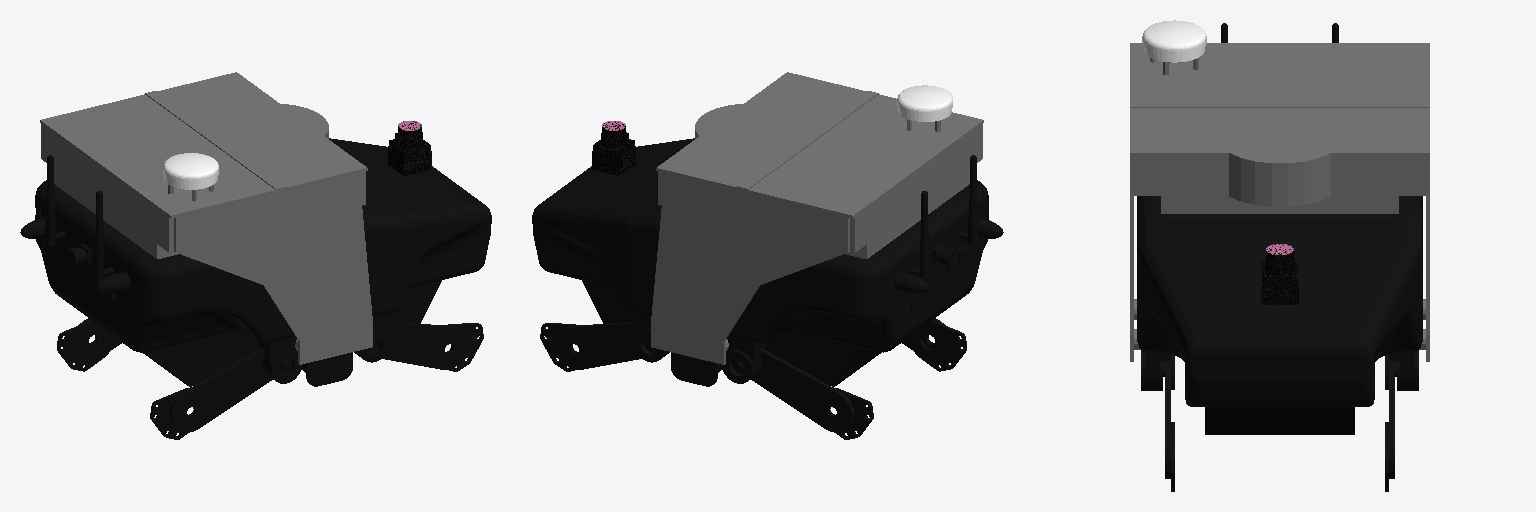
robot.urdf — summit_xl:
<?xml version="1.0" ?>
<!-- =================================================================================== -->
<!-- |    This document was autogenerated by xacro from summit_xl_170420A.urdf.xacro   | -->
<!-- |    EDITING THIS FILE BY HAND IS NOT RECOMMENDED                                 | -->
<!-- =================================================================================== -->
<robot name="summit_xl" xmlns:xacro="http://www.ros.org/wiki/xacro">
  <!-- ***************** -->
  <!-- Imported elements -->
  <!-- ***************** -->
  <!-- First we import all posible elements defined in the urdf.xacro files. All these elements are defined as macro:xacros -->
  <gazebo reference="base_footprint">
    <material>Gazebo/Green</material>
  </gazebo>
  <!-- in kg-->
  <!-- This file unifies all sensors that can be used on simulation, defined as xacro:macros -->
  <!-- ***************** -->
  <!-- Global parameters -->
  <!-- ***************** -->
  <!-- *************** -->
  <!-- Robots Elements -->
  <!-- *************** -->
  <!-- Here we create the robot elements using the xacro:macros imported at the beggining of this file -->
  <link name="summit_xl_base_footprint">
    <visual>
      <origin rpy="0 0 0" xyz="0 0 0"/>
      <geometry>
        <box size="0.001 0.001 0.001"/>
      </geometry>
    </visual>
  </link>
  <joint name="summit_xl_base_footprint_joint" type="fixed">
    <origin rpy="0 0 0" xyz="0 0 0.125"/>
    <!-- ${wheel_radius} property must be defined inside wheel description -->
    <parent link="summit_xl_base_footprint"/>
    <child link="summit_xl_base_link"/>
  </joint>
  <!-- BASE_LINK -->
  <link name="summit_xl_base_link">
    <inertial>
      <mass value="25.0"/>
      <origin xyz="0 0 0"/>
      <inertia ixx="1.391" ixy="0.004" ixz="0.0" iyy="6.853" iyz="0.0" izz="6.125"/>
    </inertial>
    <visual>
      <origin rpy="0 0 0" xyz="0 0 0"/>
      <geometry>
        <mesh filename="package://summit_xl_description/meshes/bases/summit_xl_hl_chassis.dae"/>
      </geometry>
      <material name="darkgrey">
        <color rgba="0.1 0.1 0.1 1"/>
      </material>
    </visual>
    <collision>
      <origin rpy="0 0 0 " xyz="0 0 0"/>
      <geometry>
        <mesh filename="package://summit_xl_description/meshes/bases/summit_xl_hl_chassis.dae"/>
      </geometry>
    </collision>
  </link>
  <gazebo>
    <plugin filename="libgazebo_ros_control.so" name="ros_control">
      <!--<robotNamespace>/summit_xl</robotNamespace>-->
      <robotParam>robot_description</robotParam>
      <controlPeriod>0.001</controlPeriod>
      <robotSimType>gazebo_ros_control/DefaultRobotHWSim</robotSimType>
    </plugin>
  </gazebo>
  <!-- Gazebo skid steering pluggins -->
  <!-- Simulation now uses a set of ros_control controllers and a node called summit_xl_robot_control -->
  <!--xacro:ros_force_based_move broadcastOdomTF="0"/-->
  <!--xacro:skid_steering broadcastOdomTF="0"/>-->
  <!-- Gazebo omni steering plugin -->
  <!--xacro:omni_steering/-->
  <!-- WHEELS -->
  <!--WHEEL TIRE -->
  <joint name="summit_xl_front_right_wheel_joint" type="continuous">
    <parent link="summit_xl_base_link"/>
    <child link="summit_xl_front_right_wheel"/>
    <origin rpy="0 0 0" xyz="0.229 -0.234 0.0"/>
    <axis rpy="0 0 0" xyz="0 1 0"/>
    <limit effort="100" velocity="100"/>
    <joint_properties damping="0.0" friction="0.0"/>
  </joint>
  <link name="summit_xl_front_right_wheel">
    <visual>
      <origin rpy="0 0 0" xyz="0 0 0"/>
      <geometry>
        <mesh filename="package://summit_xl_description/meshes/wheels/rubber_wheel_right.dae"/>
      </geometry>
    </visual>
    <collision>
      <origin rpy="1.57079632679 0 0" xyz="0 0 0"/>
      <geometry>
        <cylinder length="0.14" radius="0.125"/>
      </geometry>
    </collision>
    <inertial>
      <mass value="6.5"/>
      <origin xyz="0 0 0"/>
      <inertia ixx="0.0360072916667" ixy="0" ixz="0" iyy="0.05078125" iyz="0" izz="0.0360072916667"/>
    </inertial>
  </link>
  <!-- Transmission is important to link the joints and the controller (see summit_xl_control/config/summit_xl_control.yaml)-->
  <transmission name="summit_xl_front_right_wheel_joint_trans">
    <type>transmission_interface/SimpleTransmission</type>
    <joint name="summit_xl_front_right_wheel_joint">
      <hardwareInterface>hardware_interface/VelocityJointInterface</hardwareInterface>
    </joint>
    <actuator name="summit_xl_front_right_wheel_joint_motor">
      <mechanicalReduction>1</mechanicalReduction>
      <motorTorqueConstant>20</motorTorqueConstant>
    </actuator>
  </transmission>
  <gazebo reference="summit_xl_front_right_wheel">
    <mu1 value="1.0"/>
    <mu2 value="1.0"/>
    <kp value="10000000.0"/>
    <kd value="1.0"/>
    <fdir1 value="1 0 0"/>
    <turnGravityOff>false</turnGravityOff>
  </gazebo>
  <!--WHEEL TIRE -->
  <joint name="summit_xl_front_left_wheel_joint" type="continuous">
    <parent link="summit_xl_base_link"/>
    <child link="summit_xl_front_left_wheel"/>
    <origin rpy="0 0 0" xyz="0.229 0.234 0.0"/>
    <axis rpy="0 0 0" xyz="0 1 0"/>
    <limit effort="100" velocity="100"/>
    <joint_properties damping="0.0" friction="0.0"/>
  </joint>
  <link name="summit_xl_front_left_wheel">
    <visual>
      <origin rpy="0 0 0" xyz="0 0 0"/>
      <geometry>
        <mesh filename="package://summit_xl_description/meshes/wheels/rubber_wheel_left.dae"/>
      </geometry>
    </visual>
    <collision>
      <origin rpy="1.57079632679 0 0" xyz="0 0 0"/>
      <geometry>
        <cylinder length="0.14" radius="0.125"/>
      </geometry>
    </collision>
    <inertial>
      <mass value="6.5"/>
      <origin xyz="0 0 0"/>
      <inertia ixx="0.0360072916667" ixy="0" ixz="0" iyy="0.05078125" iyz="0" izz="0.0360072916667"/>
    </inertial>
  </link>
  <!-- Transmission is important to link the joints and the controller (see summit_xl_control/config/summit_xl_control.yaml)-->
  <transmission name="summit_xl_front_left_wheel_joint_trans">
    <type>transmission_interface/SimpleTransmission</type>
    <joint name="summit_xl_front_left_wheel_joint">
      <hardwareInterface>hardware_interface/VelocityJointInterface</hardwareInterface>
    </joint>
    <actuator name="summit_xl_front_left_wheel_joint_motor">
      <mechanicalReduction>1</mechanicalReduction>
      <motorTorqueConstant>20</motorTorqueConstant>
    </actuator>
  </transmission>
  <gazebo reference="summit_xl_front_left_wheel">
    <mu1 value="1.0"/>
    <mu2 value="1.0"/>
    <kp value="10000000.0"/>
    <kd value="1.0"/>
    <fdir1 value="1 0 0"/>
    <turnGravityOff>false</turnGravityOff>
  </gazebo>
  <!--WHEEL TIRE -->
  <joint name="summit_xl_back_left_wheel_joint" type="continuous">
    <parent link="summit_xl_base_link"/>
    <child link="summit_xl_back_left_wheel"/>
    <origin rpy="0 0 0" xyz="-0.229 0.234 0.0"/>
    <axis rpy="0 0 0" xyz="0 1 0"/>
    <limit effort="100" velocity="100"/>
    <joint_properties damping="0.0" friction="0.0"/>
  </joint>
  <link name="summit_xl_back_left_wheel">
    <visual>
      <origin rpy="0 0 0" xyz="0 0 0"/>
      <geometry>
        <mesh filename="package://summit_xl_description/meshes/wheels/rubber_wheel_left.dae"/>
      </geometry>
    </visual>
    <collision>
      <origin rpy="1.57079632679 0 0" xyz="0 0 0"/>
      <geometry>
        <cylinder length="0.14" radius="0.125"/>
      </geometry>
    </collision>
    <inertial>
      <mass value="6.5"/>
      <origin xyz="0 0 0"/>
      <inertia ixx="0.0360072916667" ixy="0" ixz="0" iyy="0.05078125" iyz="0" izz="0.0360072916667"/>
    </inertial>
  </link>
  <!-- Transmission is important to link the joints and the controller (see summit_xl_control/config/summit_xl_control.yaml)-->
  <transmission name="summit_xl_back_left_wheel_joint_trans">
    <type>transmission_interface/SimpleTransmission</type>
    <joint name="summit_xl_back_left_wheel_joint">
      <hardwareInterface>hardware_interface/VelocityJointInterface</hardwareInterface>
    </joint>
    <actuator name="summit_xl_back_left_wheel_joint_motor">
      <mechanicalReduction>1</mechanicalReduction>
      <motorTorqueConstant>20</motorTorqueConstant>
    </actuator>
  </transmission>
  <gazebo reference="summit_xl_back_left_wheel">
    <mu1 value="1.0"/>
    <mu2 value="1.0"/>
    <kp value="10000000.0"/>
    <kd value="1.0"/>
    <fdir1 value="1 0 0"/>
    <turnGravityOff>false</turnGravityOff>
  </gazebo>
  <!--WHEEL TIRE -->
  <joint name="summit_xl_back_right_wheel_joint" type="continuous">
    <parent link="summit_xl_base_link"/>
    <child link="summit_xl_back_right_wheel"/>
    <origin rpy="0 0 0" xyz="-0.229 -0.234 0.0"/>
    <axis rpy="0 0 0" xyz="0 1 0"/>
    <limit effort="100" velocity="100"/>
    <joint_properties damping="0.0" friction="0.0"/>
  </joint>
  <link name="summit_xl_back_right_wheel">
    <visual>
      <origin rpy="0 0 0" xyz="0 0 0"/>
      <geometry>
        <mesh filename="package://summit_xl_description/meshes/wheels/rubber_wheel_right.dae"/>
      </geometry>
    </visual>
    <collision>
      <origin rpy="1.57079632679 0 0" xyz="0 0 0"/>
      <geometry>
        <cylinder length="0.14" radius="0.125"/>
      </geometry>
    </collision>
    <inertial>
      <mass value="6.5"/>
      <origin xyz="0 0 0"/>
      <inertia ixx="0.0360072916667" ixy="0" ixz="0" iyy="0.05078125" iyz="0" izz="0.0360072916667"/>
    </inertial>
  </link>
  <!-- Transmission is important to link the joints and the controller (see summit_xl_control/config/summit_xl_control.yaml)-->
  <transmission name="summit_xl_back_right_wheel_joint_trans">
    <type>transmission_interface/SimpleTransmission</type>
    <joint name="summit_xl_back_right_wheel_joint">
      <hardwareInterface>hardware_interface/VelocityJointInterface</hardwareInterface>
    </joint>
    <actuator name="summit_xl_back_right_wheel_joint_motor">
      <mechanicalReduction>1</mechanicalReduction>
      <motorTorqueConstant>20</motorTorqueConstant>
    </actuator>
  </transmission>
  <gazebo reference="summit_xl_back_right_wheel">
    <mu1 value="1.0"/>
    <mu2 value="1.0"/>
    <kp value="10000000.0"/>
    <kd value="1.0"/>
    <fdir1 value="1 0 0"/>
    <turnGravityOff>false</turnGravityOff>
  </gazebo>
  <!-- SENSORS -->
  <!-- Hokuyo laser sensors can be parametized with min_angle and max_angle e.g: -->
  <!--xacro:sensor_hokuyo_utm30lx prefix="$(arg prefix)hokuyo_base" parent="$(arg prefix)base_link" min_angle="2.35" max_angle="-2.35"-->
  <!--xacro:sensor_hokuyo_utm30lx prefix="$(arg prefix)hokuyo_base" parent="$(arg prefix)base_link">
		<origin xyz="0.0 0.0 0.33" rpy="0 0 0"/>
	</xacro:sensor_hokuyo_utm30lx-->
  <joint name="summit_xl_laser_base_joint" type="fixed">
    <!-- FRONT MOUNT  -->
    <!--origin xyz="0.29 0 0.1" -->
    <!-- TOP MOUNT -->
    <!-- origin xyz="0.0 0.0 0.325"-->
    <origin rpy="0 0 0" xyz="0.24854 0 0.29190"/>
    <parent link="summit_xl_base_link"/>
    <child link="summit_xl_laser_base_link"/>
  </joint>
  <link name="summit_xl_laser_base_link">
    <visual>
      <origin rpy="0 0 0" xyz="0 0 -0.05"/>
      <geometry>
        <mesh filename="package://robotnik_sensors/meshes/hokuyo_urg_04lx.dae"/>
      </geometry>
    </visual>
    <inertial>
      <mass value="1e-5"/>
      <origin rpy="0 0 0" xyz="0 0 0"/>
      <inertia ixx="1e-6" ixy="0" ixz="0" iyy="1e-6" iyz="0" izz="1e-6"/>
    </inertial>
  </link>
  <link name="summit_xl_laser_link">
	</link>
  <joint name="summit_xl_laser_joint" type="fixed">
    <parent link="summit_xl_laser_base_link"/>
    <child link="summit_xl_laser_link"/>
    <origin rpy="0 0 0" xyz="0.00 0 0.05"/>
  </joint>
  <gazebo reference="summit_xl_laser_link">
    <sensor name="summit_xl_laser_sensor" type="ray">
      <pose>0 0 0 0 0 0</pose>
      <visualize>false</visualize>
      <update_rate>10</update_rate>
      <ray>
        <scan>
          <horizontal>
            <samples>640</samples>
            <resolution>1</resolution>
            <min_angle>-2.0943</min_angle>
            <max_angle>2.0943</max_angle>
          </horizontal>
        </scan>
        <range>
          <min>0.02</min>
          <max>4.0</max>
          <resolution>0.00628318531</resolution>
        </range>
        <noise>
          <type>gaussian</type>
          <mean>0.0</mean>
          <stddev>0.01</stddev>
        </noise>
      </ray>
      <plugin filename="libgazebo_ros_laser.so" name="summit_xl_laser_controller">
        <topicName>scan</topicName>
        <frameName>summit_xl_laser_link</frameName>
        <ignoreTfPrefix>1</ignoreTfPrefix>
      </plugin>
    </sensor>
  </gazebo>
  <joint name="summit_xl_structure_chasis_our_joint" type="fixed">
    <axis xyz="0 1 0"/>
    <origin rpy="0 0 0" xyz="0.0 0.0 0.0"/>
    <parent link="summit_xl_base_link"/>
    <child link="summit_xl_structure_chasis_our_link"/>
  </joint>
  <link name="summit_xl_structure_chasis_our_link">
    <inertial>
      <mass value="0.001"/>
      <origin rpy="0 0 0" xyz="0 0 0"/>
      <inertia ixx="0.0001" ixy="0" ixz="0" iyy="0.000001" iyz="0" izz="0.0001"/>
    </inertial>
    <visual>
      <origin rpy="0 0 0" xyz="0 0 0"/>
      <material name="alu_color">
        <color rgba="0.5 0.5 0.5 1"/>
      </material>
      <geometry>
        <mesh filename="package://summit_xl_description/meshes/structures/chasis_sup_our.stl"/>
      </geometry>
    </visual>
    <collision>
      <origin rpy="0 0 0" xyz="0 0 0"/>
      <geometry>
        <mesh filename="package://summit_xl_description/meshes/structures/chasis_sup_our.stl"/>
      </geometry>
    </collision>
  </link>
  <gazebo reference="summit_xl_structure_chasis_our_link">
    <material>Gazebo/White</material>
    <gravity>true</gravity>
  </gazebo>
  <!--
  <xacro:sensor_hokuyo_ust10lx prefix="$(arg prefix)hokuyo_base" parent="$(arg prefix)base_link">
		<origin xyz="0.0 0.0 0.33" rpy="0 0 0"/>
	</xacro:sensor_hokuyo_ust10lx>
-->
  <!--
	<xacro:sensor_axis prefix="$(arg prefix)camera" parent="$(arg prefix)base_link">
		<origin xyz="0.19 0 0.17" rpy="0 ${-75*PI/180} 0"/>
	</xacro:sensor_axis>
-->
  <joint name="summit_xl_imu_joint" type="fixed">
    <axis xyz="1 0 0"/>
    <!--origin xyz="0 0 0.2825"/-->
    <origin rpy="0 0 0" xyz="-0.18 0.0 0.170"/>
    <parent link="summit_xl_base_link"/>
    <child link="summit_xl_imu_link"/>
  </joint>
  <link name="summit_xl_imu_link">
    <inertial>
      <mass value="0.001"/>
      <origin rpy="0 0 0" xyz="0 0 0"/>
      <inertia ixx="0.0001" ixy="0" ixz="0" iyy="0.000001" iyz="0" izz="0.0001"/>
    </inertial>
    <visual>
      <origin rpy="0 0 0" xyz="0 0 0"/>
      <geometry>
        <box size="0.001 0.001 0.001"/>
      </geometry>
    </visual>
    <collision>
      <origin rpy="0 0 0" xyz="0 0 0"/>
      <geometry>
        <box size=".001 .001 .001"/>
      </geometry>
    </collision>
  </link>
  <gazebo>
    <plugin filename="libhector_gazebo_ros_imu.so" name="summit_xl_imu_controller">
      <alwaysOn>true</alwaysOn>
      <topicName>imu/data</topicName>
      <serviceName>summit_xl_imuimu/service</serviceName>
      <bodyName>summit_xl_imu_link</bodyName>
      <updateRate>50.0</updateRate>
      <gaussianNoise>0.005</gaussianNoise>
      <!-- orientation parameters -->
      <yawOffset>0.0</yawOffset>
      <!--<yawOffset>0.0</yawOffset>-->
      <yawDrift>0.02</yawDrift>
      <!--<yawDrift>0.0</yawDrift>-->
      <yawGaussianNoise>0.01</yawGaussianNoise>
      <!--<yawGaussianNoise>0.0004</yawGaussianNoise>-->
      <!-- angular velocities parameters -->
      <rateOffset>0.0 0.0 0.0</rateOffset>
      <rateDrift>0.002 0.002 0.002</rateDrift>
      <!--<rateDrift>0.0 0.0 0.0</rateDrift>-->
      <rateGaussianNoise>0.001 0.001 0.001</rateGaussianNoise>
      <!--<rateGaussianNoise>0.004 0.004 0.004</rateGaussianNoise>-->
      <!-- linear accelerations parameters -->
      <accelOffset>0.0 0.0 0.0</accelOffset>
      <accelDrift>0.005 0.005 0.005</accelDrift>
      <!--<accelDrift>0.0 0.0 0.0</accelDrift>-->
      <accelGaussianNoise>0.005 0.005 0.005</accelGaussianNoise>
      <!--<accelGaussianNoise>0.004 0.004 0.004</accelGaussianNoise>-->
      <ignoreTfPrefix>1</ignoreTfPrefix>
    </plugin>
  </gazebo>
  <!-- ANTENNA GPS -->
  <joint name="summit_xl_gps_joint" type="fixed">
    <axis xyz="0 1 0"/>
    <origin rpy="0 0 0" xyz="-0.22271 -0.14219 0.38959"/>
    <parent link="summit_xl_base_link"/>
    <child link="summit_xl_gps_base_link"/>
  </joint>
  <link name="summit_xl_gps_base_link">
    <inertial>
      <mass value="0.001"/>
      <origin rpy="0 0 0" xyz="0 0 0"/>
      <inertia ixx="0.0001" ixy="0" ixz="0" iyy="0.000001" iyz="0" izz="0.0001"/>
    </inertial>
    <visual>
      <origin rpy="0 0 0" xyz="0 0 0"/>
      <material name="gps_color">
        <color rgba="1 1 1 1"/>
      </material>
      <geometry>
        <mesh filename="package://robotnik_sensors/meshes/antenna_3GO16.stl" scale="1.0 1.0 1.0"/>
      </geometry>
    </visual>
    <collision>
      <origin rpy="0 0 0" xyz="0 0 0"/>
      <geometry>
        <mesh filename="package://robotnik_sensors/meshes/antenna_3GO16.stl" scale="1.0 1.0 1.0"/>
      </geometry>
    </collision>
  </link>
  <gazebo reference="summit_xl_gps_base_link">
    <material>Gazebo/White</material>
    <gravity>true</gravity>
  </gazebo>
  <gazebo>
    <plugin filename="libhector_gazebo_ros_gps.so" name="summit_xl_gps_controller">
      <alwaysOn>1</alwaysOn>
      <updateRate>5</updateRate>
      <bodyName>summit_xl_gps_base_link</bodyName>
      <!-- must be the link of the gps device, not the base_link or base_footprint -->
      <frameId>summit_xl_gps_base_link</frameId>
      <topicName>fix</topicName>
      <!-- Robotnik position at Fuente del Jarro -->
      <referenceLatitude>39.5080331</referenceLatitude>
      <referenceLongitude>-0.4619816</referenceLongitude>
      <!-- To set heading in ENU orientation (degrees) -->
      <referenceHeading>90</referenceHeading>
      <velocityTopicName>fix_velocity</velocityTopicName>
      <drift>0.0 0.0 0.0</drift>
      <!--<drift>0.0001 0.0001 0.0001</drift>-->
      <!--<drift>0.3 0.3 0.3</drift>-->
      <gaussianNoise>0.1 0.1 0.1</gaussianNoise>
      <!--<gaussianNoise>0.00001 0.00001 0.00001</gaussianNoise>-->
      <velocityDrift>0.00001 0.00001 0.00001</velocityDrift>
      <!--<velocityGaussianNoise>0.1 0.1 0.1</velocityGaussianNoise>-->
      <velocityGaussianNoise>0.00001 0.00001 0.00001</velocityGaussianNoise>
      <ignoreTfPrefix>1</ignoreTfPrefix>
    </plugin>
  </gazebo>
  <!--
	<xacro:sensor_asus_xtion_pro prefix="$(arg prefix)xtion" parent="$(arg prefix)base_link">
		<origin xyz="0.32992 0.02 0.17172" rpy="0 0 0"/>
	</xacro:sensor_asus_xtion_pro>
	
	<xacro:sensor_sick_tim571 prefix="$(arg prefix)sick_tim561" parent="$(arg prefix)base_link">
		<origin xyz="0.286 0 0.23082" rpy="0 0 0"/>
	</xacro:sensor_sick_tim571>
	
	<BB2-08S2C-38 frame="bumblebee2" name="bumblebee2" />


  <joint name="world_camera_joint" type="fixed">
    <origin xyz="0.38030 0 0.21982" rpy="0 0 0" />
    <parent link="base_link" />
    <child link="bumblebee2" />
  </joint>

-->
  <!--
	<xacro:sensor_kinect prefix="$(arg prefix)kinect" parent="$(arg prefix)base_link">
		<origin xyz="0.325 0.0 0.16" rpy="0 0 0"/> 
	</xacro:sensor_kinect>  
  
-->
  <!--
	<xacro:sensor_fotonic prefix="$(arg prefix)fotonic" parent="$(arg prefix)base_link">
		<origin xyz="0.3 0.0 0.24" rpy="0 0 0"/> 
	</xacro:sensor_fotonic>  
-->
</robot>

--- Render facts (derived) ---
Views: 3 orthographic renders of the robot side by side, from view 1: azimuth 30°, elevation 25°; view 2: azimuth 150°, elevation 25°; view 3: azimuth 270°, elevation 25°.
Robot: summit_xl — 11 links, 10 joints (4 continuous, 6 fixed); root link summit_xl_base_footprint; default pose: every joint at zero.
Links seen in each view (by area): view 1: summit_xl_base_link, summit_xl_structure_chasis_our_link, summit_xl_laser_base_link, summit_xl_gps_base_link; view 2: summit_xl_base_link, summit_xl_structure_chasis_our_link, summit_xl_laser_base_link, summit_xl_gps_base_link; view 3: summit_xl_base_link, summit_xl_structure_chasis_our_link, summit_xl_gps_base_link, summit_xl_laser_base_link.
Boxes of the visible links, <box> form: summit_xl_base_link: <box>20,138,491,439</box>; summit_xl_structure_chasis_our_link: <box>40,72,372,364</box>; summit_xl_laser_base_link: <box>388,121,431,175</box>; summit_xl_gps_base_link: <box>163,153,218,189</box>; summit_xl_base_link: <box>532,138,1003,439</box>; summit_xl_structure_chasis_our_link: <box>651,72,983,364</box>; summit_xl_laser_base_link: <box>592,121,635,175</box>; summit_xl_gps_base_link: <box>897,85,952,121</box>; summit_xl_base_link: <box>1137,23,1422,491</box>; summit_xl_structure_chasis_our_link: <box>1130,43,1429,361</box>; summit_xl_gps_base_link: <box>1142,20,1206,62</box>; summit_xl_laser_base_link: <box>1261,244,1298,304</box>.
Bounding box of the posed robot: 0.7007 × 0.403 × 0.5456 m (x, y, z).
4 mesh visuals loaded from 6 distinct referenced files (2 binary STL, 2 Collada DAE); not drawn: 4 (reference not matched to a file when rendering).
